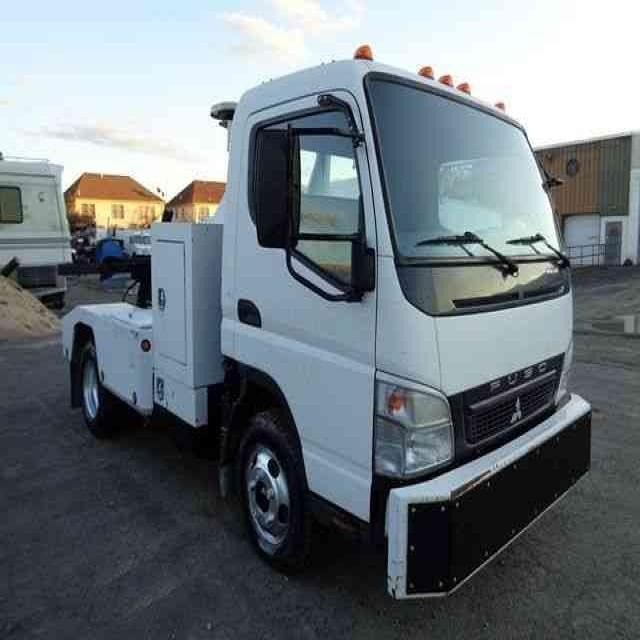Truck: (62, 46, 591, 598)
